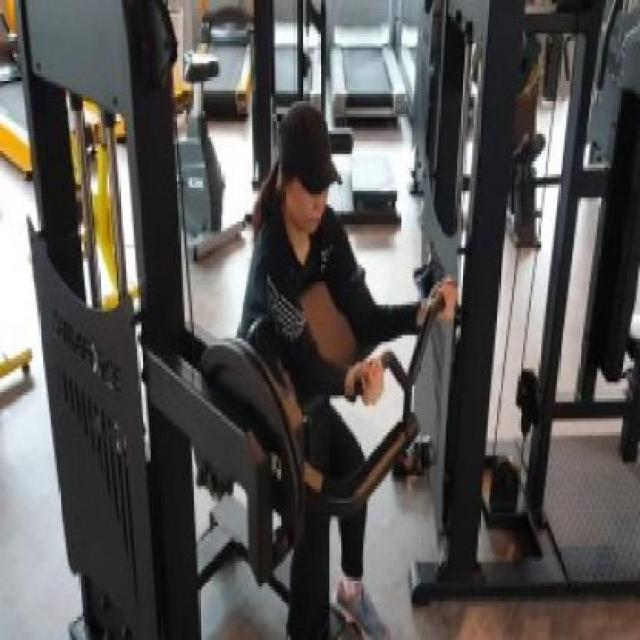arm curl machine: (34, 275, 457, 640)
